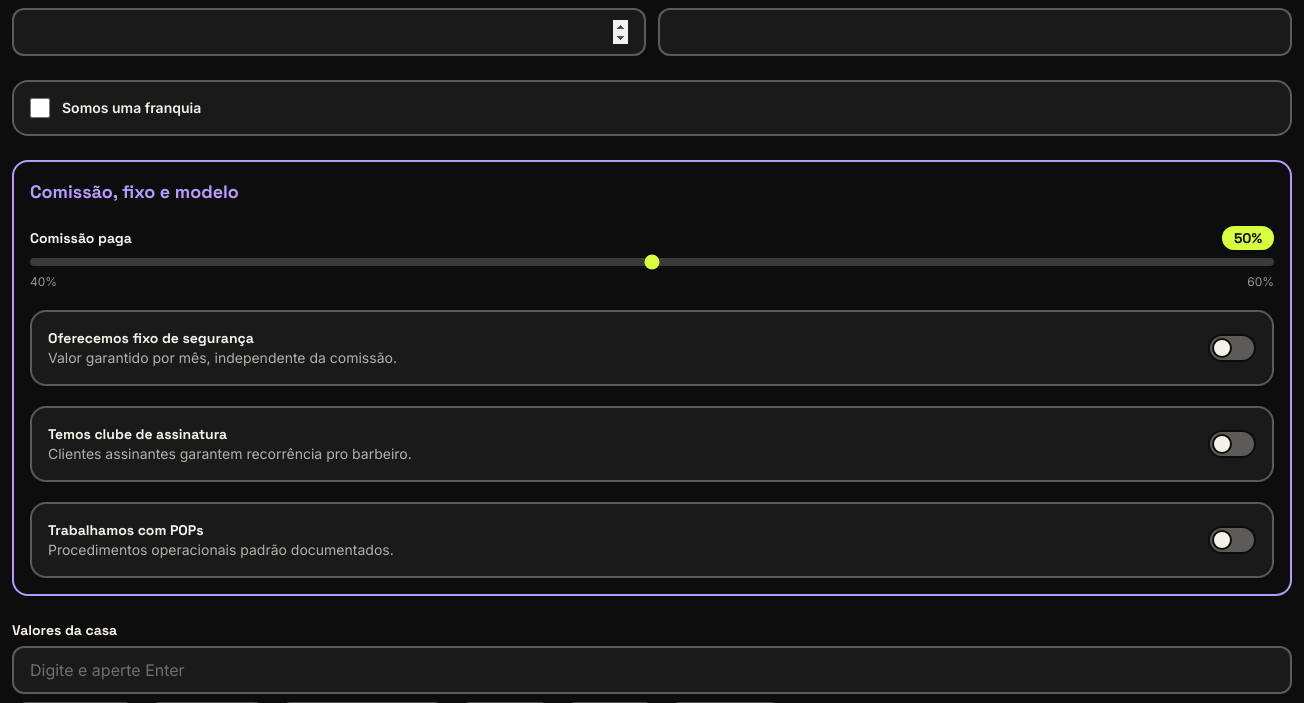
Test: Campos de comissão, fixo e modelo (E02) › mostra o campo de valor só quando "tem fixo" está ligado (RF35)
(page scrolled)
Expected: the field labelled "valor do fixo" is not shown
What coordinates should you click on to do the following:
click the switch labelled "fixo de segurança"
I would click on:
 (151, 338)
Its box is left=30, top=310, right=1274, bottom=386.
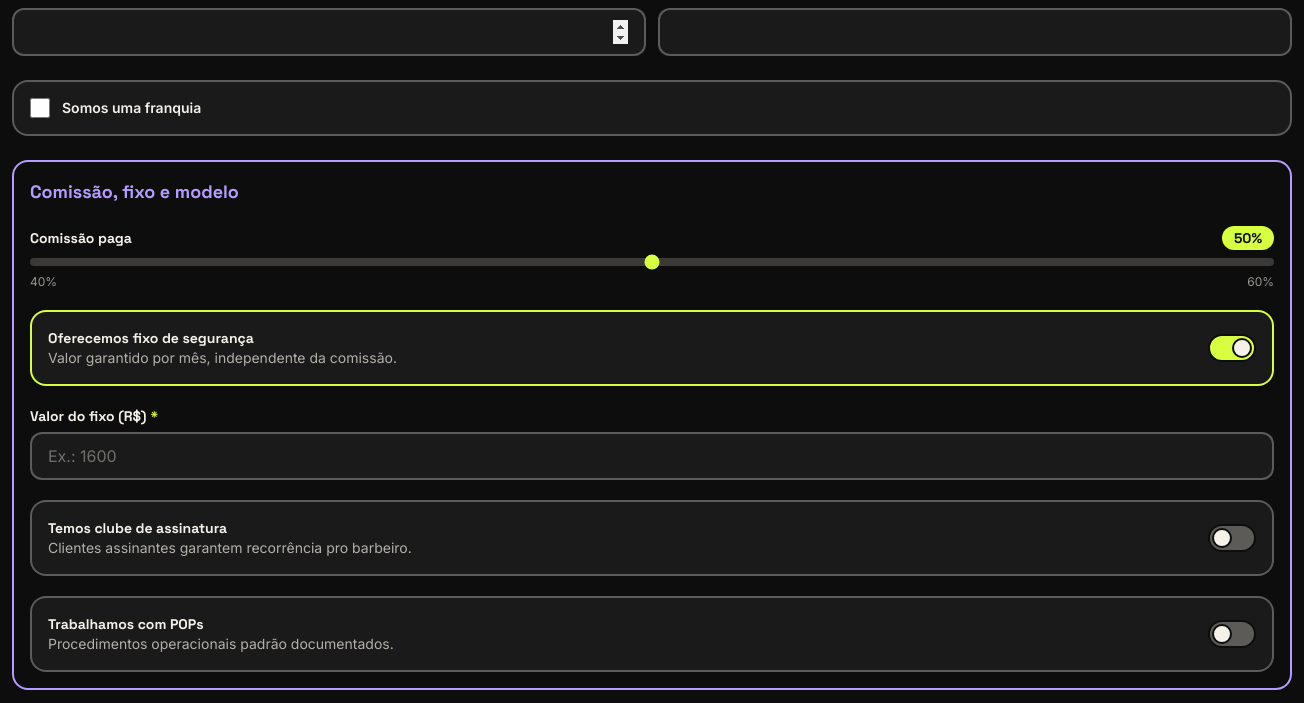
Expected: the number field labelled "Valor do fixo (R$)*" is shown, left=30, top=432, right=1274, bottom=480
